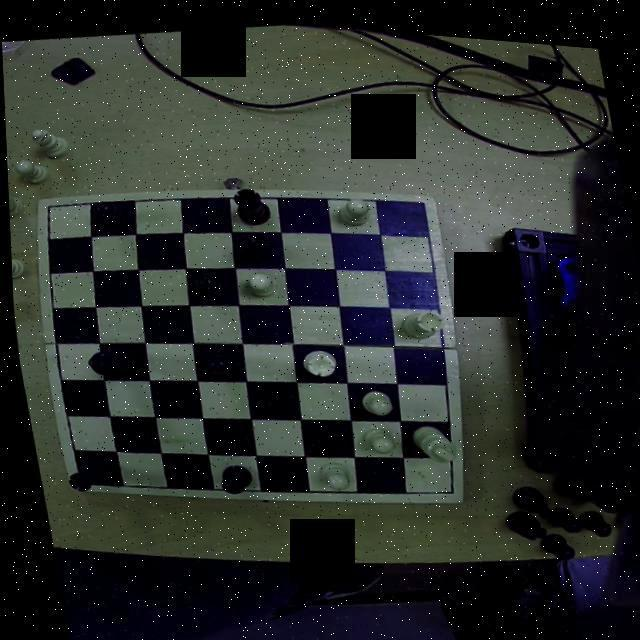chess-table-corners: (403, 187, 433, 214), (433, 469, 461, 496), (62, 471, 94, 494), (33, 198, 58, 222)
